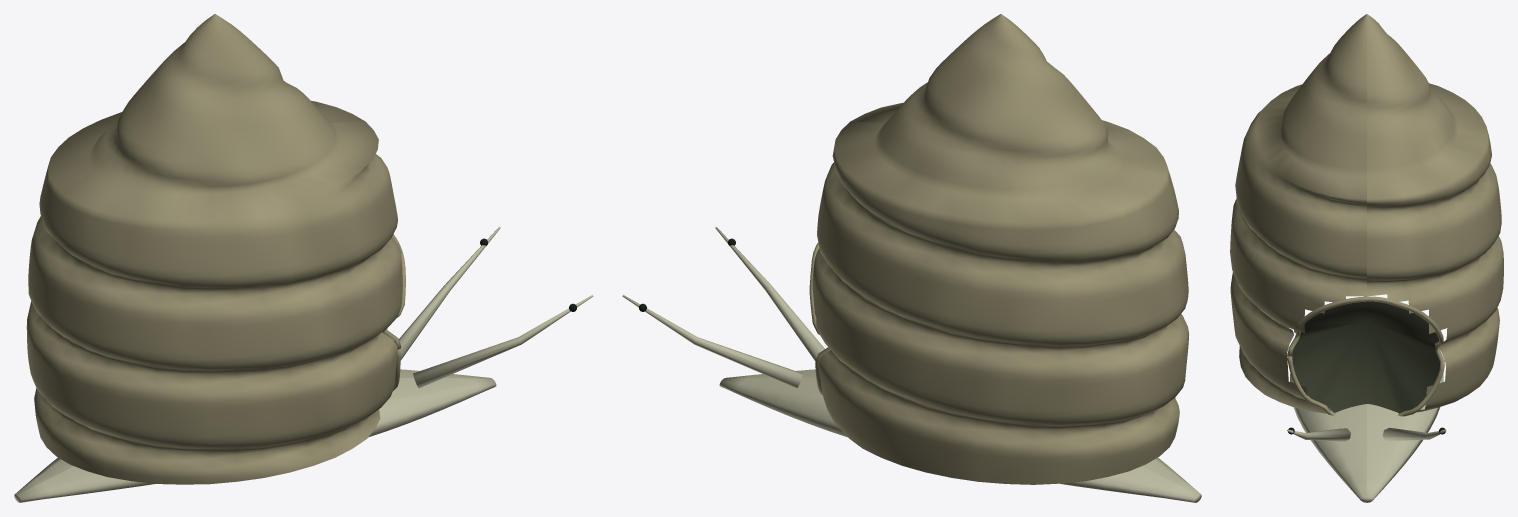
The model's file is bladder-mobile.glb.
The picture shows the model from 3 angles, left to right: view 1: azimuth 30°, elevation 25°; view 2: azimuth 150°, elevation 25°; view 3: azimuth 270°, elevation 25°; orthographic projection. The views are drawn at different scales.
Visible parts, largest first — view 1: connected-whorled-shell, muscular-foot, cephalic-tentacle; view 2: connected-whorled-shell, muscular-foot, cephalic-tentacle; view 3: connected-whorled-shell, recessed-aperture, muscular-foot, aperture-lip, cephalic-tentacle.
Part boxes in pixels (x1,y1,x2,y2): connected-whorled-shell: (26, 14, 402, 484); muscular-foot: (14, 369, 496, 502); cephalic-tentacle: (399, 227, 593, 388); connected-whorled-shell: (812, 14, 1189, 484); muscular-foot: (719, 369, 1201, 502); cephalic-tentacle: (622, 227, 824, 388); connected-whorled-shell: (1230, 14, 1503, 413); recessed-aperture: (1292, 301, 1439, 413); muscular-foot: (1290, 373, 1443, 502); aperture-lip: (1287, 296, 1444, 416); cephalic-tentacle: (1287, 427, 1446, 441).
Bounding box in the file's own units: 0.5905 × 0.469 × 0.3117.
